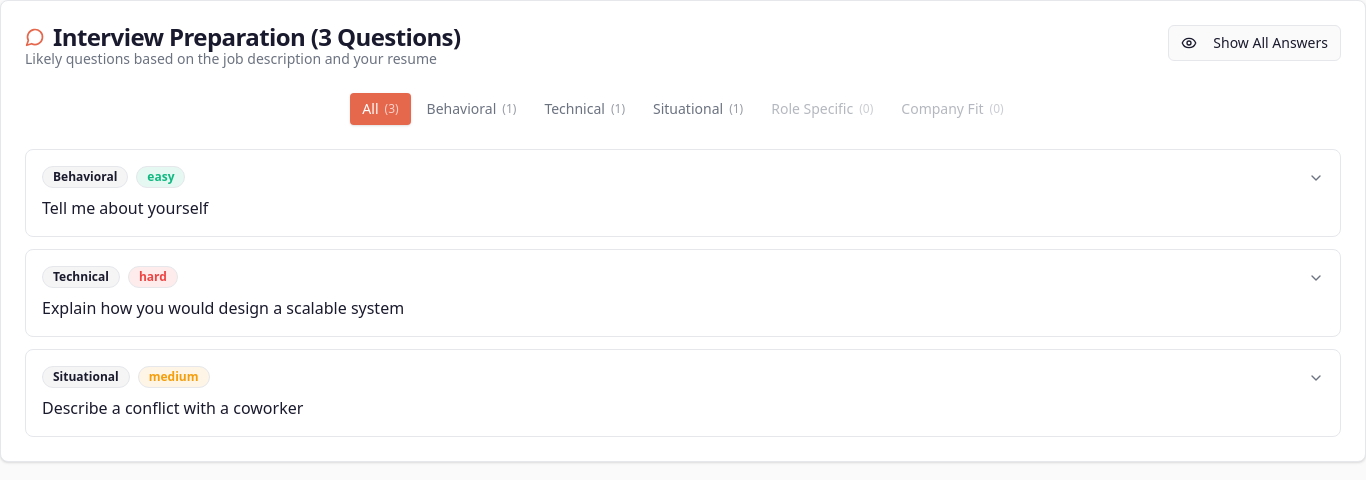
Test: InterviewQuestions › filters questions by category when a tab is clicked
The image size is (1366, 480).
# Click on technical tab
Click the tab "technical (1)" at (585, 109), box [532,93,637,125]
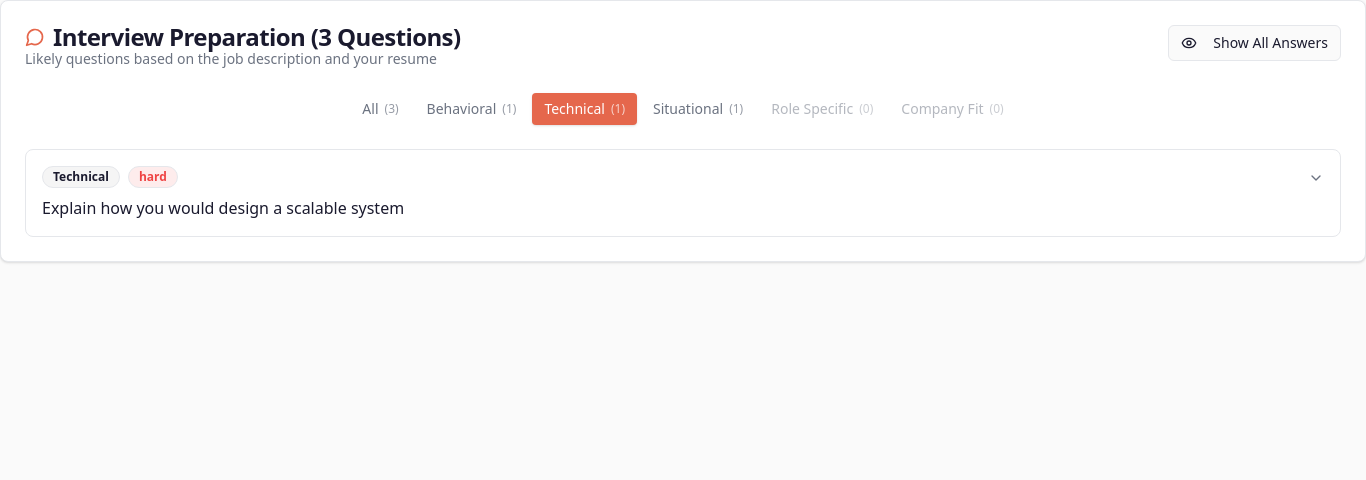
Check: the text "Explain how you would design a scalable system" is shown, box [42,197,404,219]
Check: the button "Tell me about yourself" is gone
